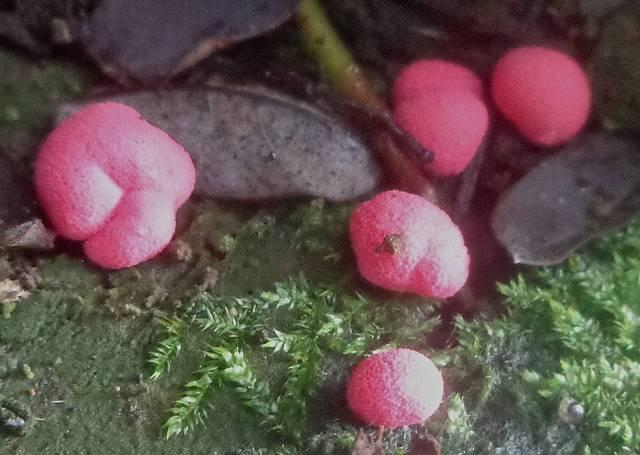Non-edible Mushroom: (31, 99, 197, 270), (346, 188, 471, 300), (388, 57, 490, 177), (489, 43, 592, 146), (343, 346, 445, 431)
